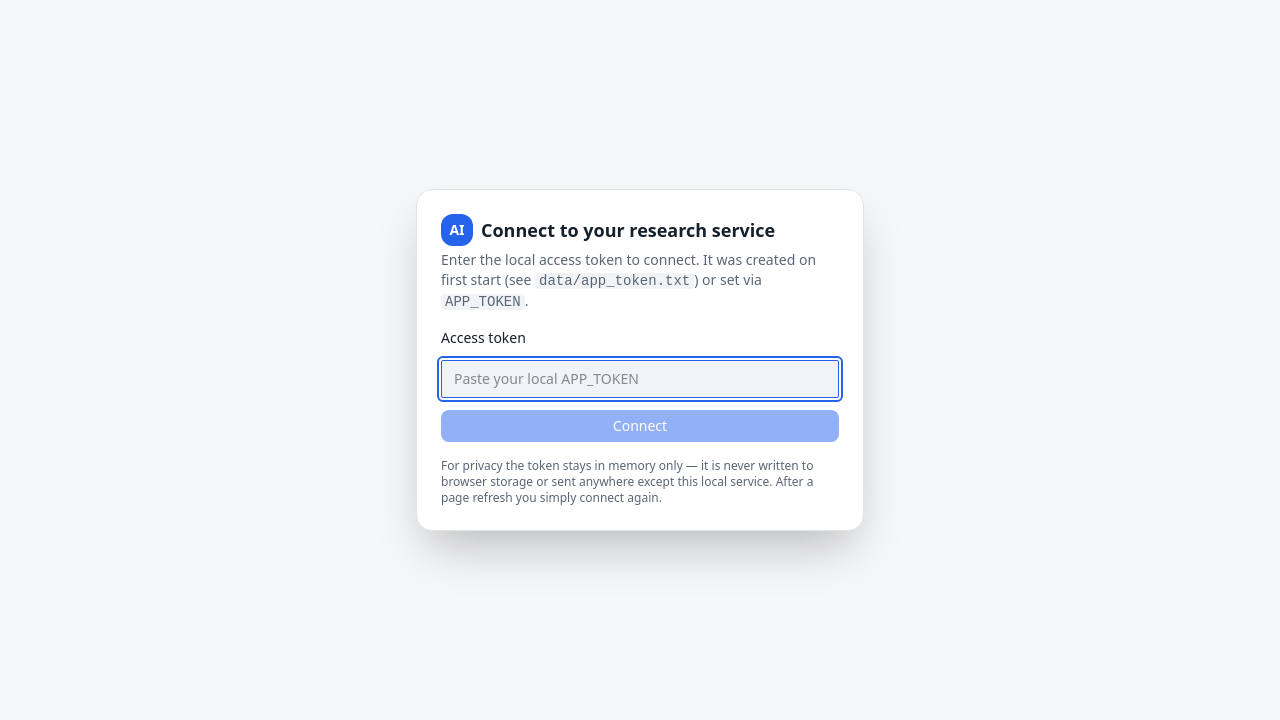
it: sources panel › lists per-run sources with hostname and retrieved/discovered status
This screenshot has width=1280, height=720.
In the password field labelled "Access token": (640, 379) [441,360,839,398], type "test-token-123"
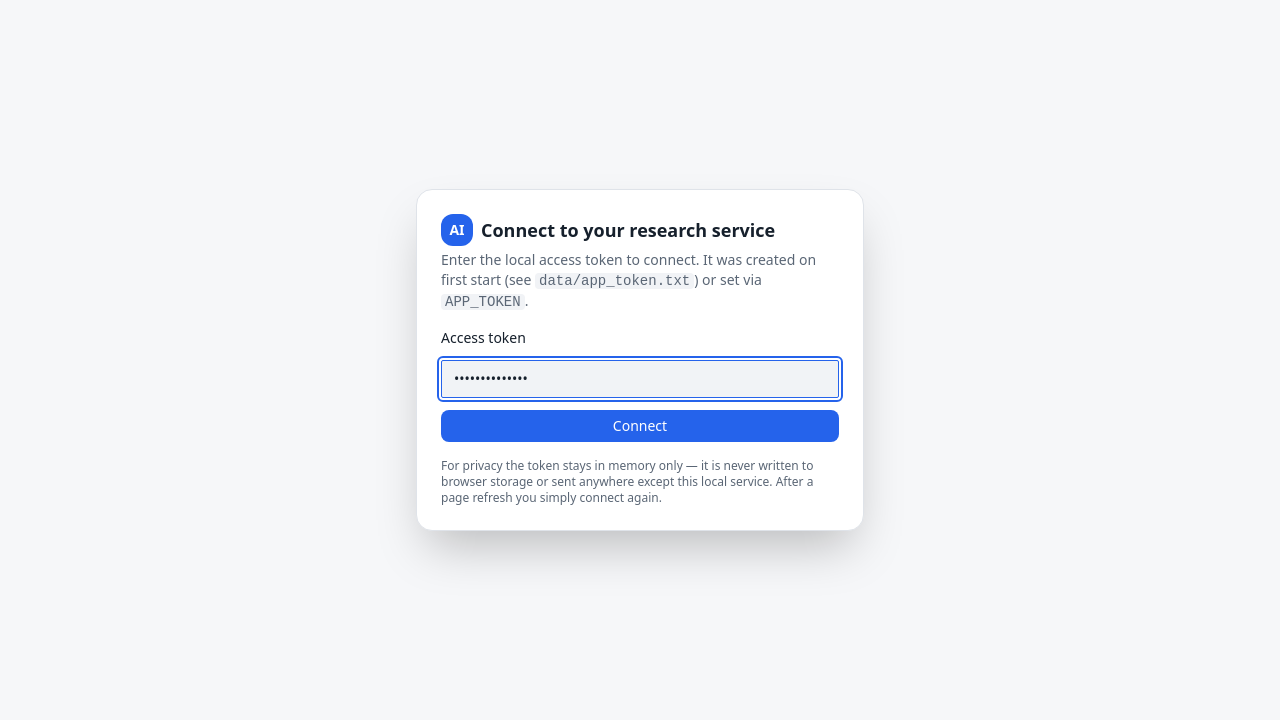
Click the button "Connect": click(640, 426) [441,410,839,442]
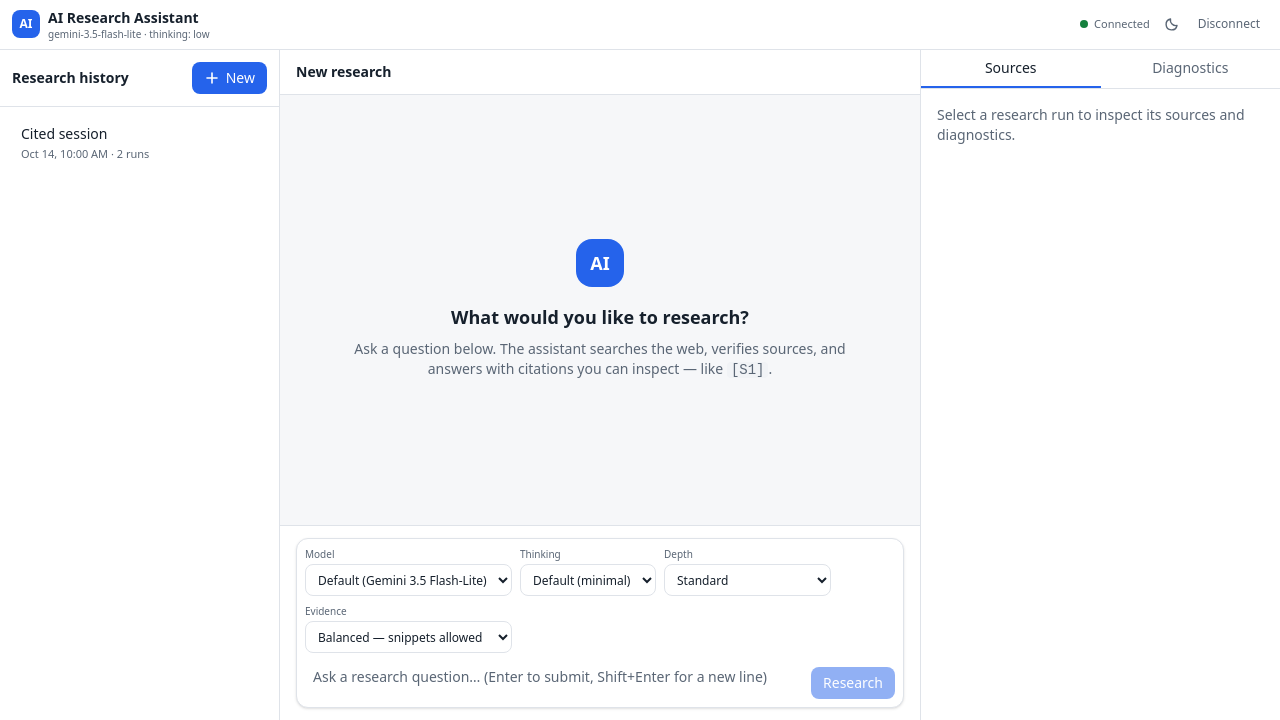
expect the heading "What would you like to research?" is shown: met, box [451,303,749,331]
Click the text "Cited session": click(64, 133) [21,124,107,142]
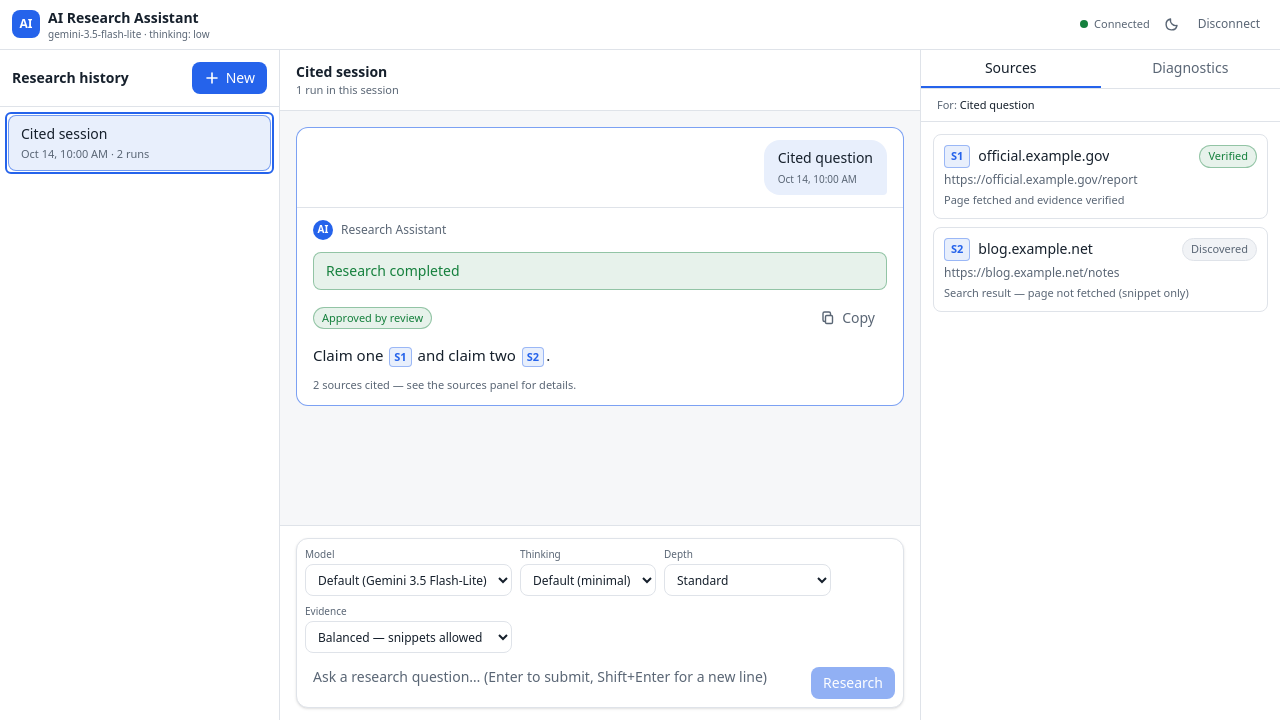
expect the text "official.example.gov" is shown: met, box [978,146,1109,166]
expect the text "blog.example.net" is shown: met, box [978,239,1093,259]
expect the text "Verified" is shown: met, box [1199,145,1257,168]
